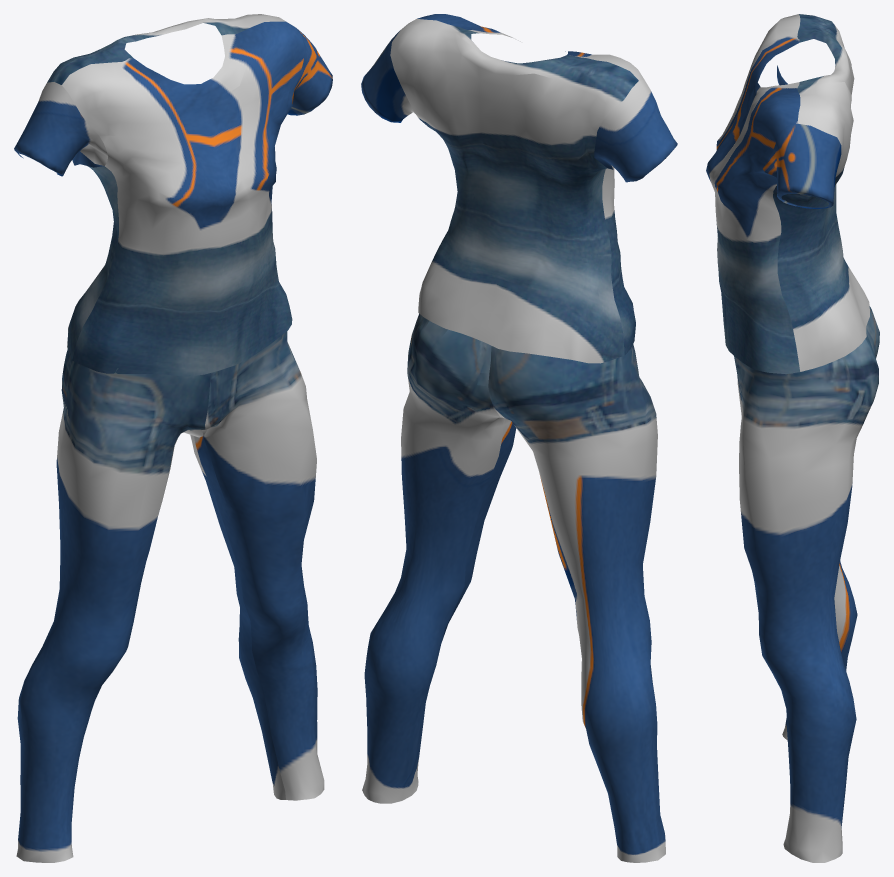
The model's file is casual-female.glb.
The picture shows the model from 3 angles, left to right: view 1: azimuth 30°, elevation 25°; view 2: azimuth 150°, elevation 25°; view 3: azimuth 270°, elevation 25°; orthographic projection. The views are drawn at different scales.
Parts seen in each view (by area): view 1: casual-female; view 2: casual-female; view 3: casual-female.
Part boxes in pixels (box(x1,y1,x2,y2)): casual-female: box(14, 14, 332, 862); casual-female: box(361, 14, 677, 862); casual-female: box(706, 14, 879, 862).
Bounding box in the file's own units: 0.5368 × 1.31 × 0.28.
Materials: 1 (1 with a texture image).
